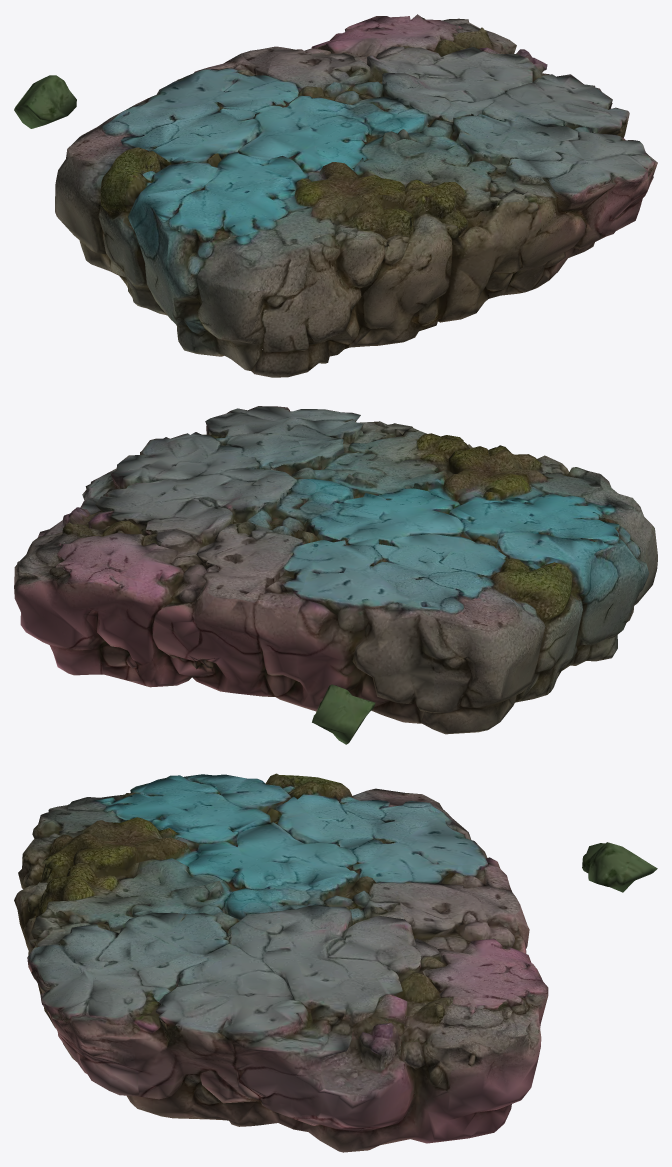
Rendered from rock_cracked.glb.
The picture shows the model from 3 angles, top to bottom: view 1: azimuth 30°, elevation 25°; view 2: azimuth 150°, elevation 25°; view 3: azimuth 270°, elevation 25°; orthographic projection. The views are drawn at different scales.
Parts seen in each view (by area): view 1: tripo_node_efdfd233; view 2: tripo_node_efdfd233; view 3: tripo_node_efdfd233.
Part boxes in pixels (x1=…): tripo_node_efdfd233: x1=14, y1=14, x2=657, y2=377; tripo_node_efdfd233: x1=14, y1=406, x2=657, y2=744; tripo_node_efdfd233: x1=14, y1=773, x2=657, y2=1152.
Bounding box in the file's own units: 0.9776 × 0.2743 × 0.9734.
1 material, 1 textured.
